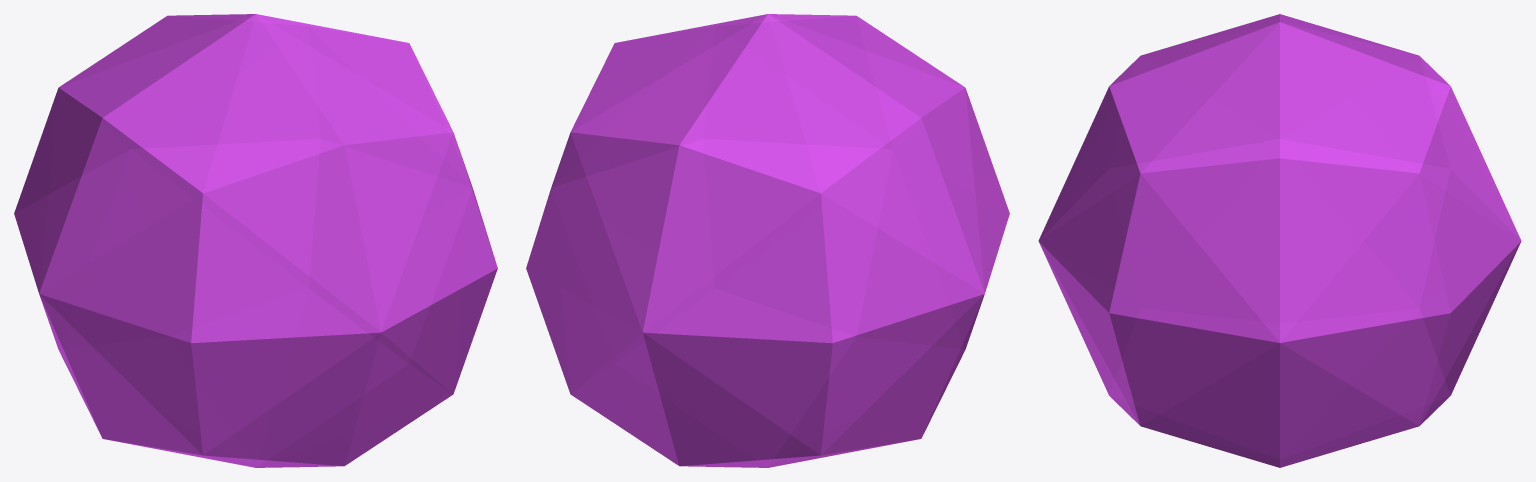
File: BiscribedDisdyakisDodecahedron.obj
The picture shows the model from 3 angles, left to right: view 1: azimuth 30°, elevation 25°; view 2: azimuth 150°, elevation 25°; view 3: azimuth 270°, elevation 25°; orthographic projection. The views are drawn at different scales.
Bounding box in the file's own units: 2 × 2 × 2.
